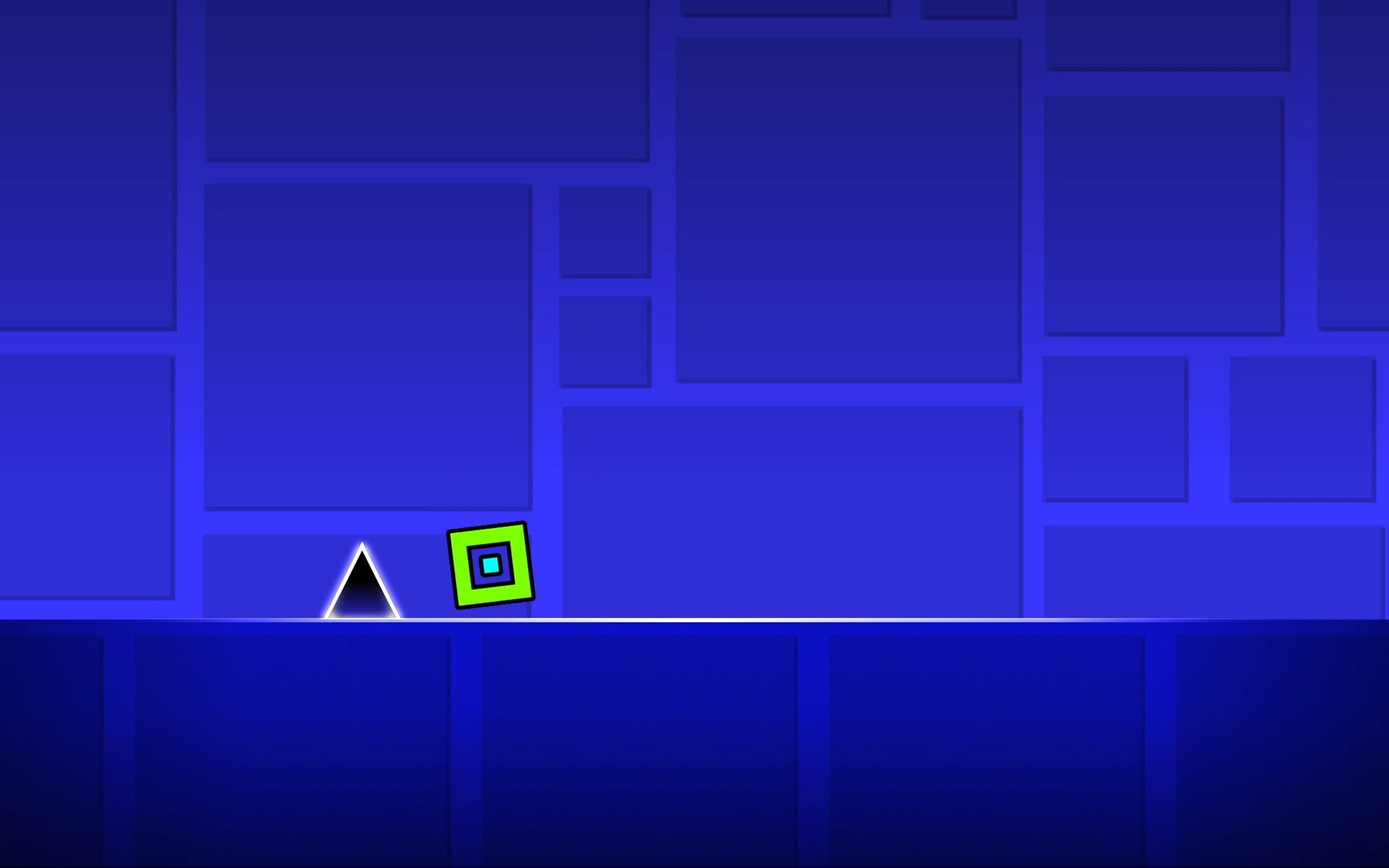Player: (448, 522, 534, 608)
Spike: (323, 544, 399, 617)
